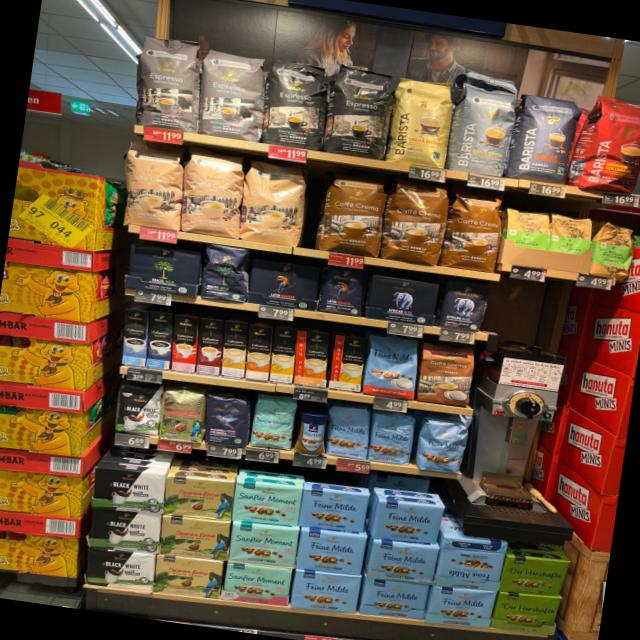AB Bohne: (433, 274, 492, 334)
AB Gemahlen: (364, 274, 440, 328)
Athiopien Bohne: (584, 220, 640, 281)
Athiopien Gemahlen: (498, 206, 552, 268), (542, 213, 594, 272)
BM Bohne: (198, 242, 254, 306)
BM Gemahlen: (125, 243, 202, 296)
BW Bohne: (112, 380, 164, 440)
BW Gemahlen: (91, 466, 167, 516), (83, 544, 158, 594), (88, 507, 162, 556)
Barista CB: (381, 74, 460, 170)
Barista CC: (442, 82, 517, 178)
Barista Espresso: (506, 92, 584, 186)
Barista Kolumbien: (567, 92, 640, 199)
C Fino Bohne: (200, 386, 254, 446)
CC Mild: (114, 140, 192, 233), (236, 159, 312, 249), (174, 149, 250, 239)
CC Vollmundig: (414, 336, 479, 408)
CC Vollmundig 36 Pads: (378, 180, 452, 268), (314, 174, 389, 258), (438, 189, 508, 276)
Colombia BB Bohne: (156, 385, 210, 444)
Colombia BB Gemahlen: (159, 514, 233, 562), (162, 475, 236, 521), (152, 554, 224, 600)
Espresso Aromatisch: (130, 32, 212, 135), (189, 46, 273, 144)
Espresso Kraftig: (318, 62, 398, 162), (254, 58, 334, 150)
FM 36 Pads: (359, 330, 423, 402)
FM Bohne: (412, 415, 469, 476), (366, 408, 418, 466), (324, 404, 374, 462)
FM Gemahlen: (364, 538, 440, 586), (295, 529, 368, 577), (288, 569, 363, 615), (372, 500, 445, 546), (424, 585, 498, 630), (298, 488, 370, 534), (358, 576, 431, 621), (433, 547, 505, 592)
FM Instant: (292, 408, 332, 459)
Herzhatfe Mundig: (490, 592, 562, 636), (498, 555, 572, 597)
LG Bohne: (314, 262, 369, 320)
LG Gemahlen: (246, 257, 320, 311)
SM Bohne: (248, 394, 298, 452)
SM Gemahlen: (221, 560, 295, 608), (231, 480, 304, 528), (228, 521, 300, 569)
Simo CCMild: (327, 335, 366, 393)
Simo CCMild bigpack: (267, 327, 300, 385)
Simo CCVollmundig: (292, 331, 333, 390)
Simo CCVollmundig bigpack: (243, 323, 276, 382)
Simo Decaff: (220, 318, 250, 379)
Simo Es Elegant: (170, 314, 199, 374)
Simo Es Kraft: (195, 317, 228, 375)
Simo Kaffee Kraft: (145, 309, 176, 370)
Simo Kaffee Mild: (121, 308, 150, 368)
